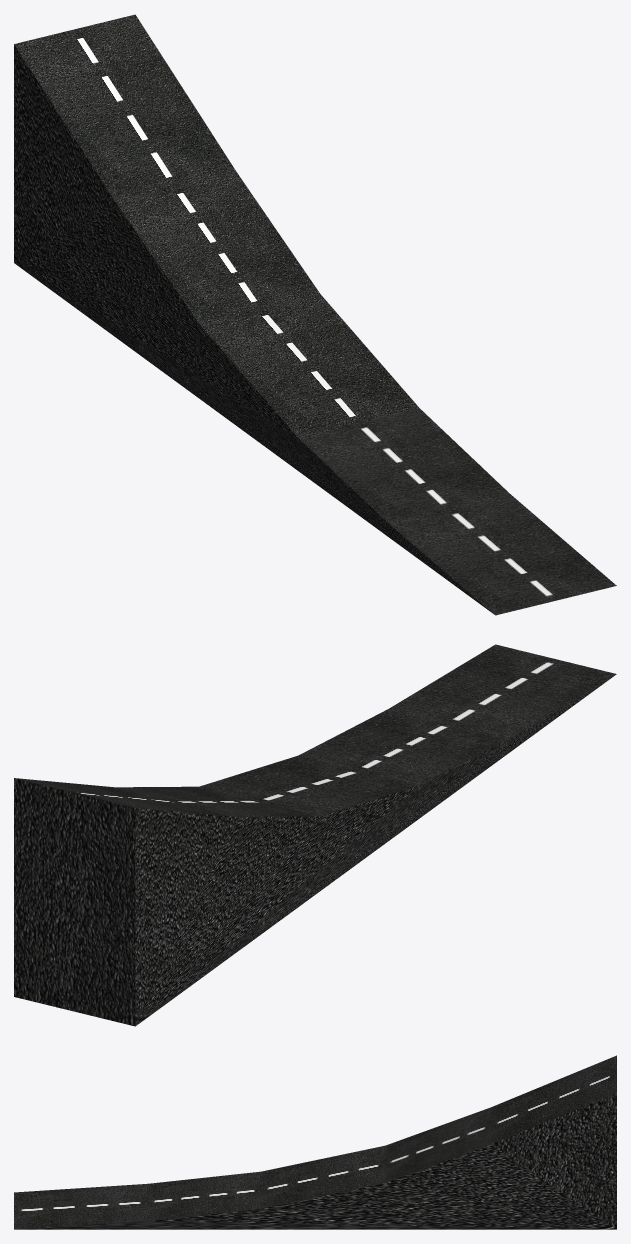
The model's file is L2_Straight_Ramp.FBX.
3 renders of one model, top to bottom at view 1: azimuth 30°, elevation 25°; view 2: azimuth 150°, elevation 25°; view 3: azimuth 270°, elevation 25°, orthographic. The views are drawn at different scales.
Visible parts, largest first — view 1: Line01; view 2: Line01; view 3: Line01.
Part boxes in pixels (bbox=[...]): Line01: bbox=[14, 14, 616, 615]; Line01: bbox=[14, 644, 616, 1026]; Line01: bbox=[14, 1055, 616, 1229].
Size of the model in its own units: 59 by 405 by 102.
